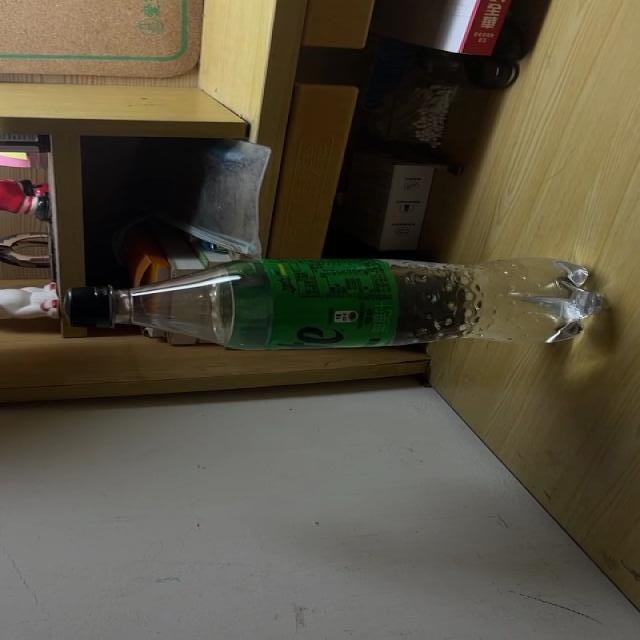Sprite: (66, 257, 602, 351)
